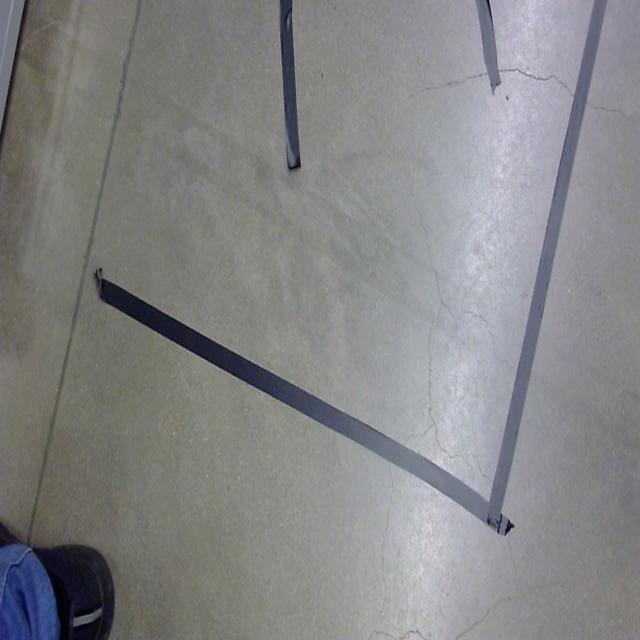tape: (89, 262, 527, 542), (479, 0, 609, 544), (276, 0, 303, 173), (474, 0, 504, 99)
